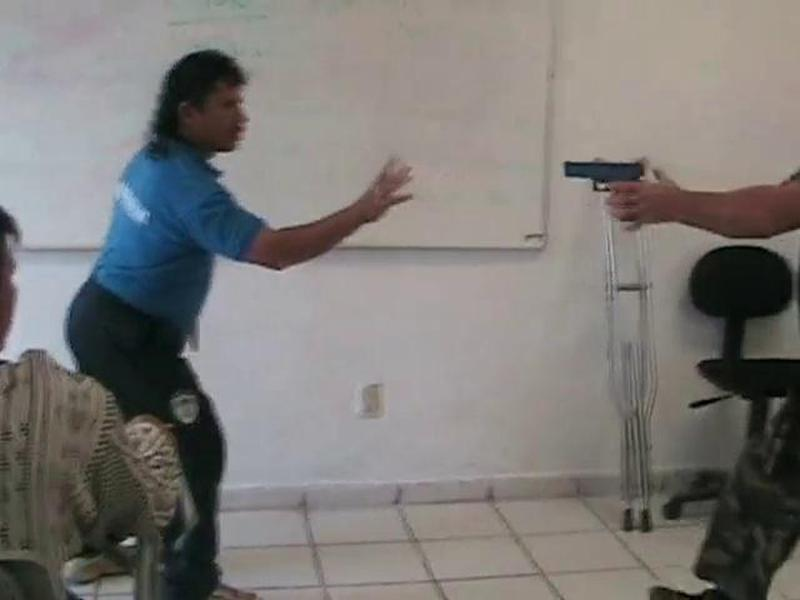Pistola: (562, 153, 646, 199)
